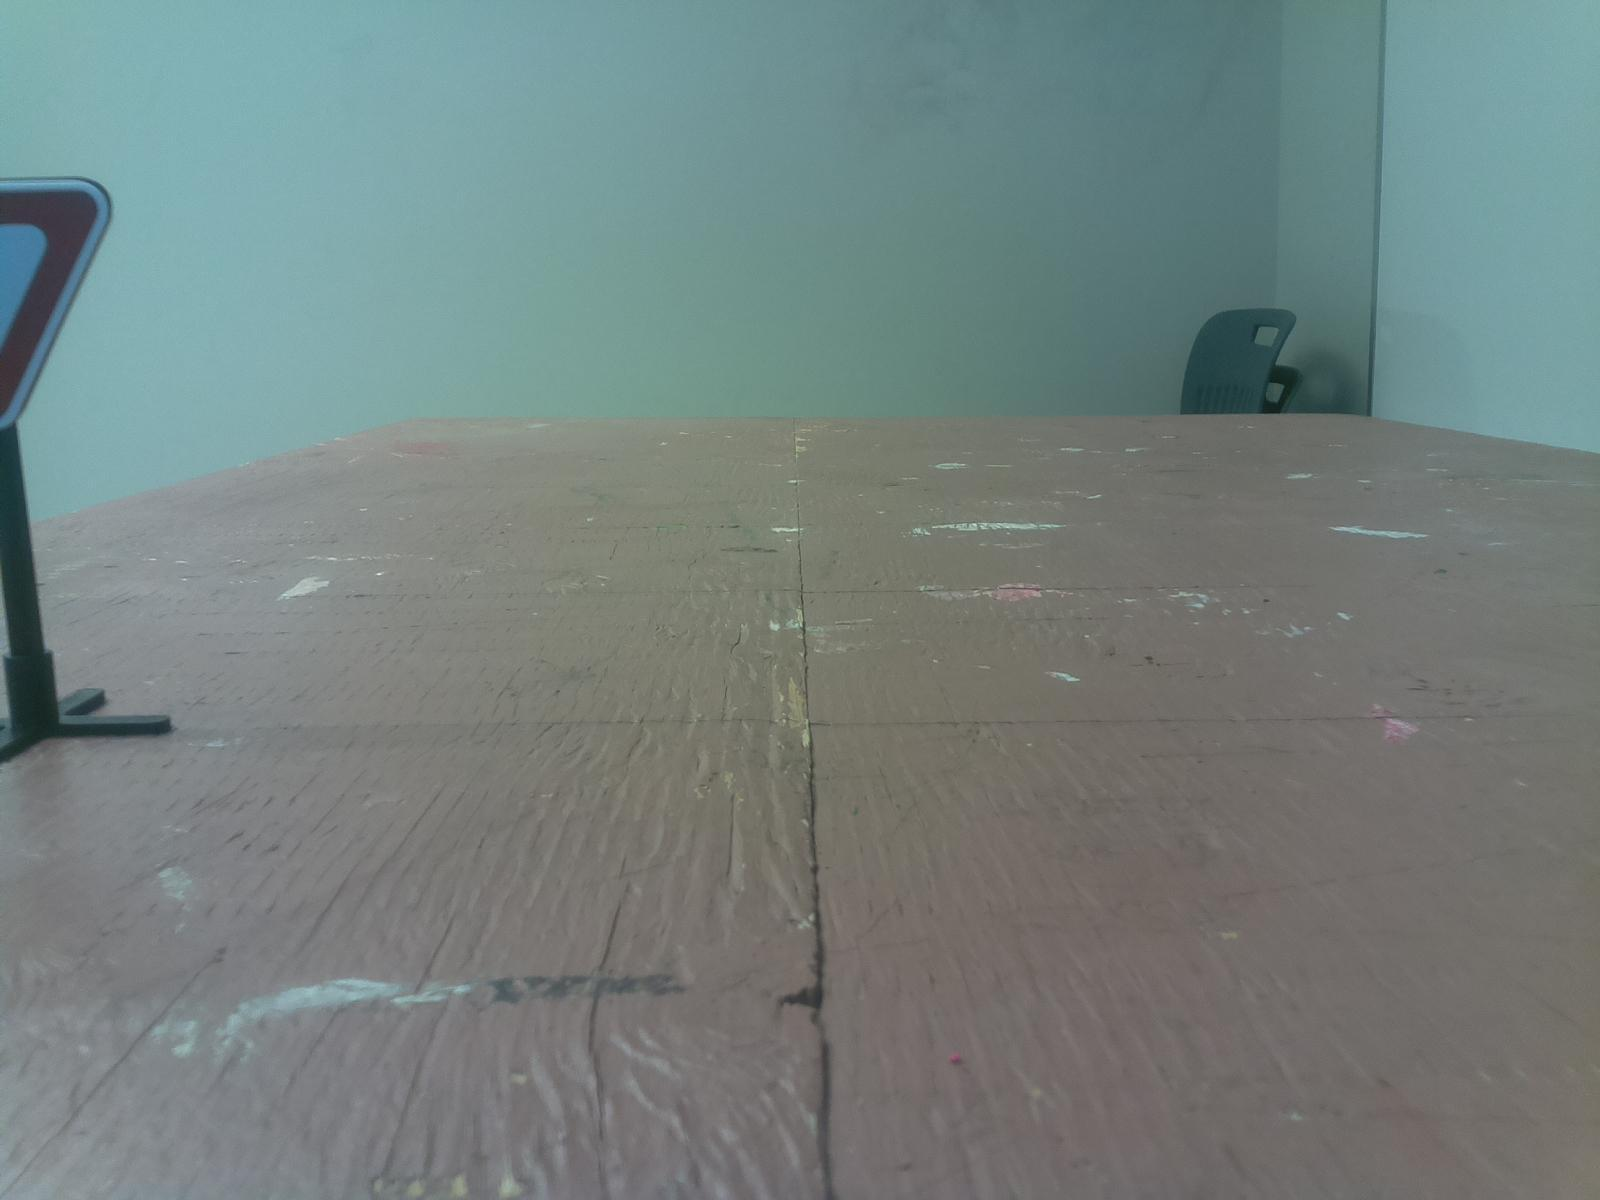sign_yield: (1, 173, 132, 429)
